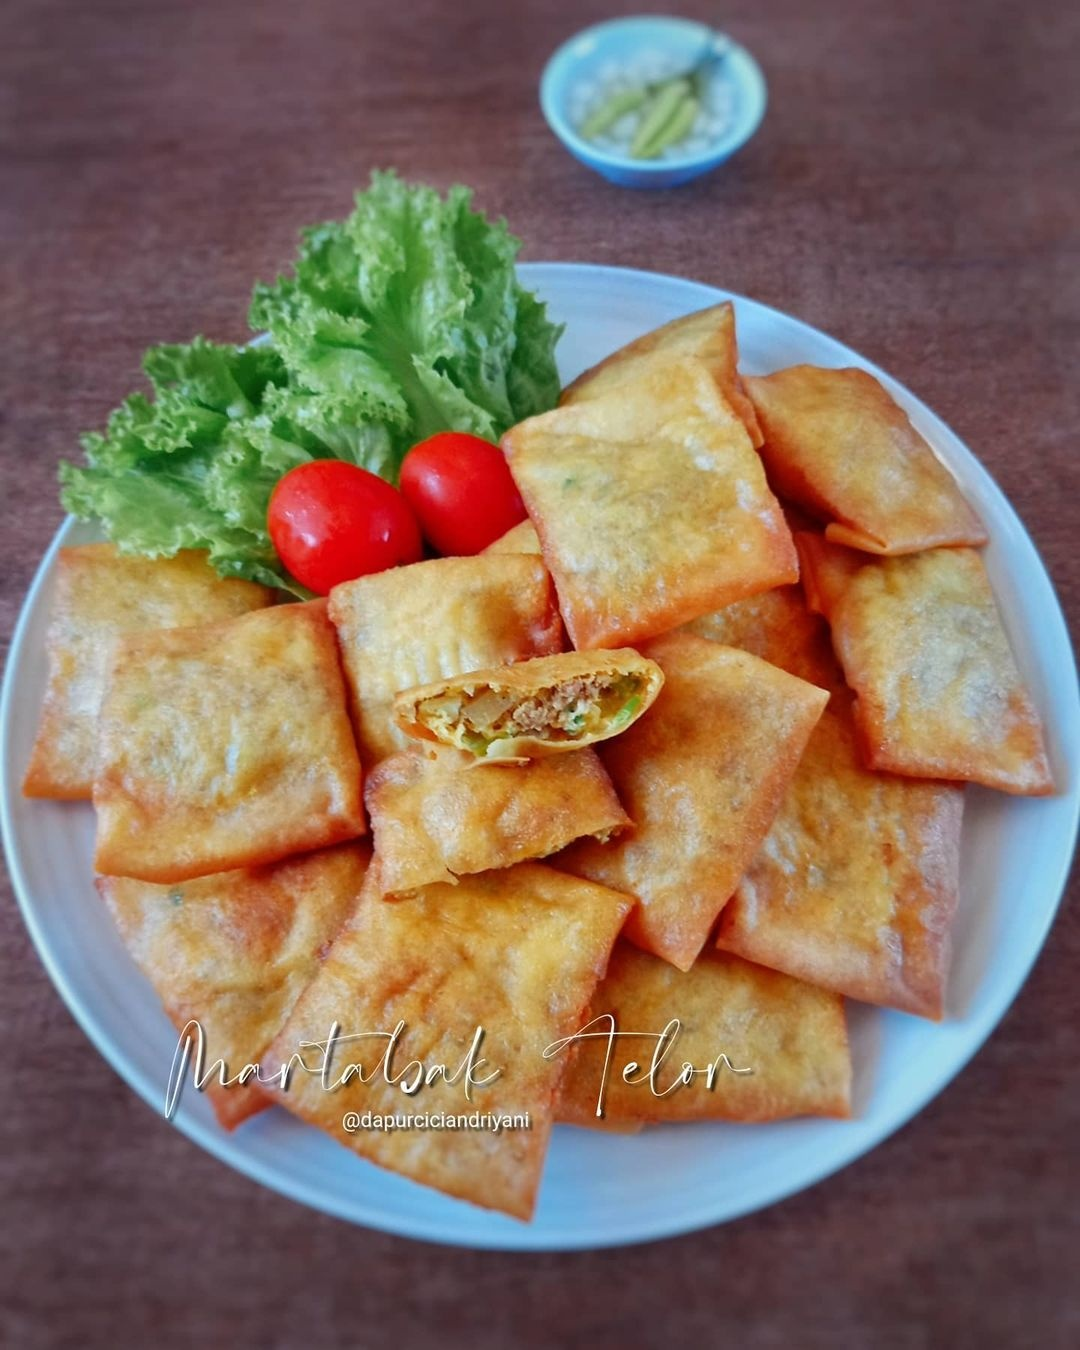martabak: (17, 293, 1061, 1228)
